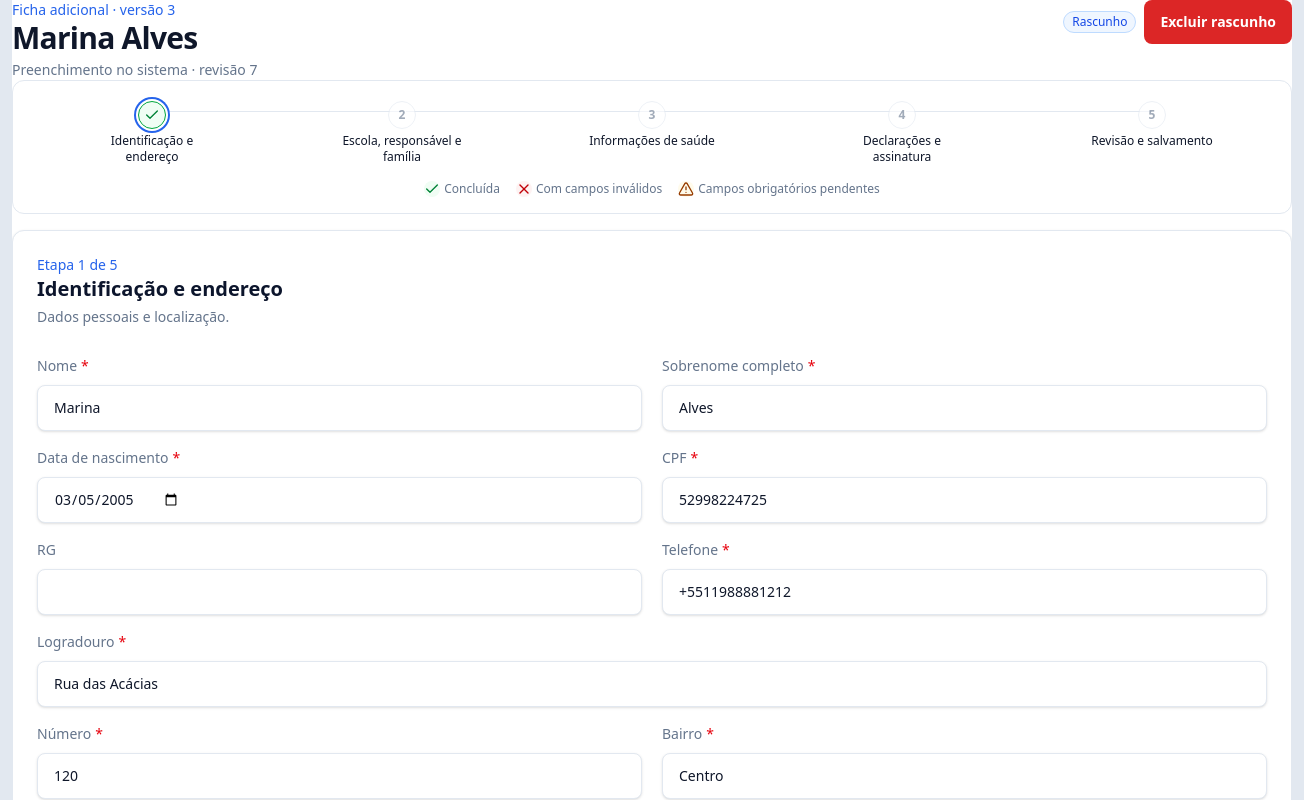
Test: OratorianoFormEditor › marca etapa incompleta depois de iniciar e voltar sem validar o retorno
Click the button with aria-label "Etapa 2: Escola, responsável e família, ainda não iniciada".
click(402, 133)  # box [279,97,525,169]
(page scrolled)
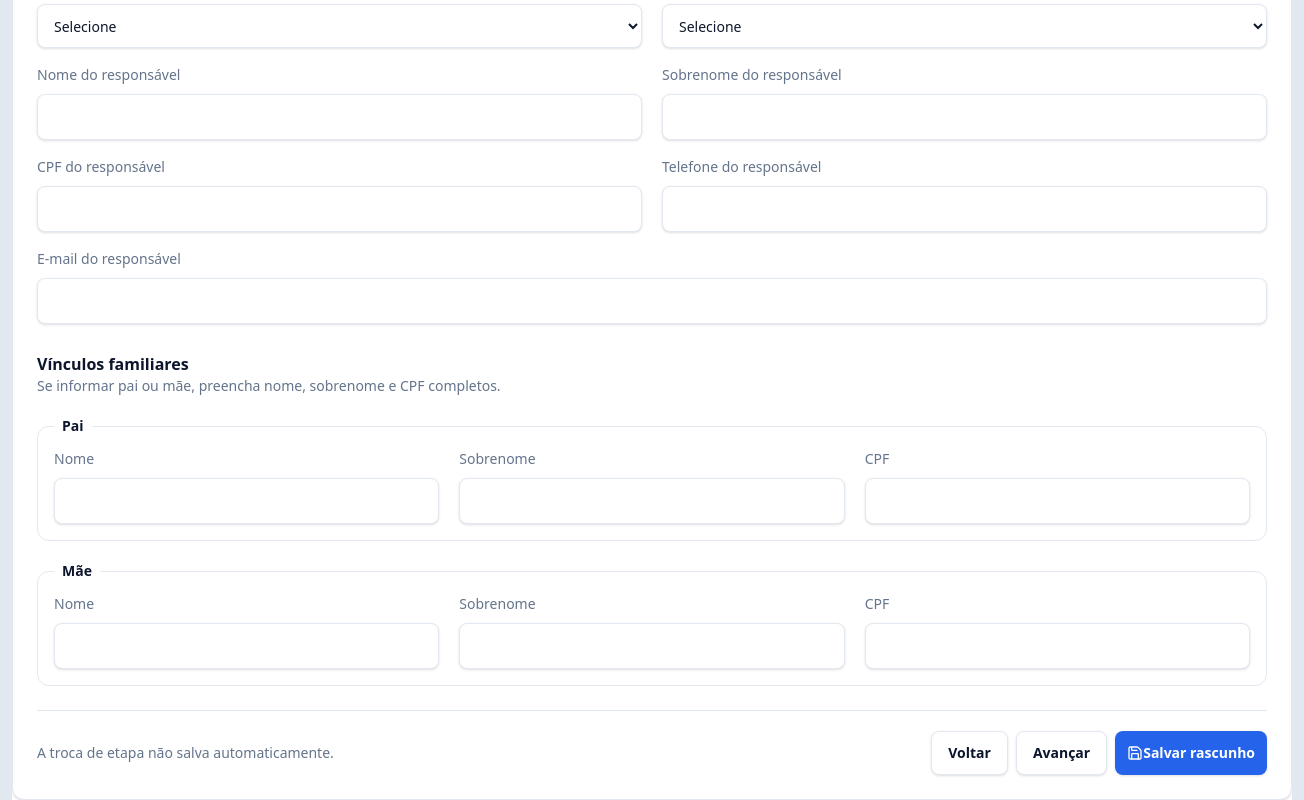
Click the button "Voltar".
click(970, 753)  # box [931,731,1008,775]
(page scrolled)
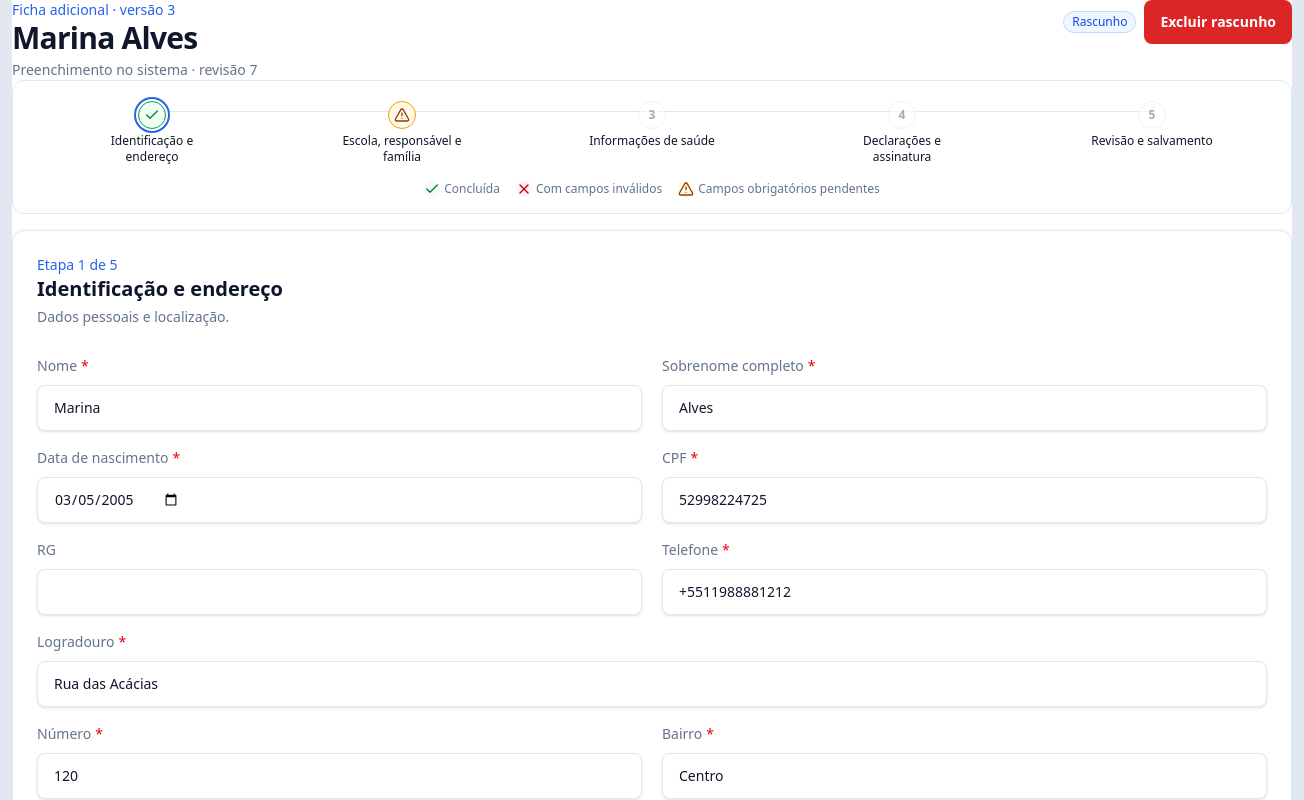
Check: the button named "Etapa 2: Escola, responsável e família, com campos obrigatórios pendentes" is shown, box [279,97,525,169]
Check: the heading "Identificação e endereço" is shown, box [37,275,283,302]
